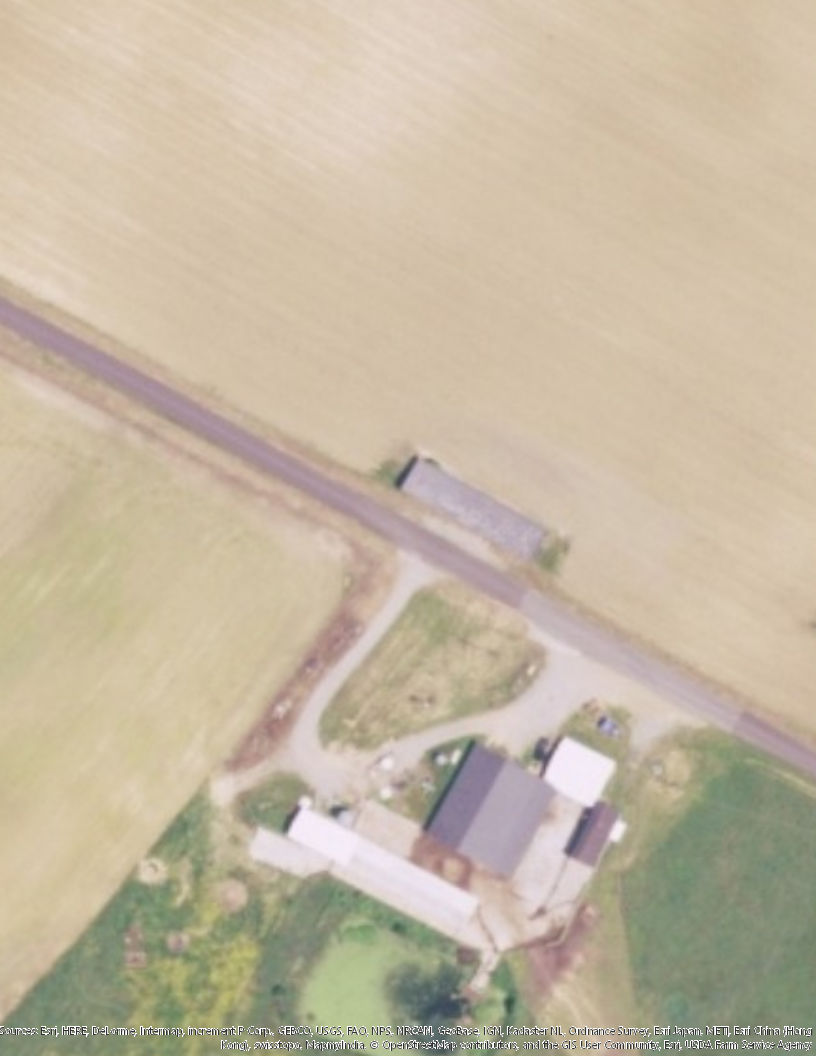cafo: (424, 709, 620, 896), (238, 786, 484, 934)
